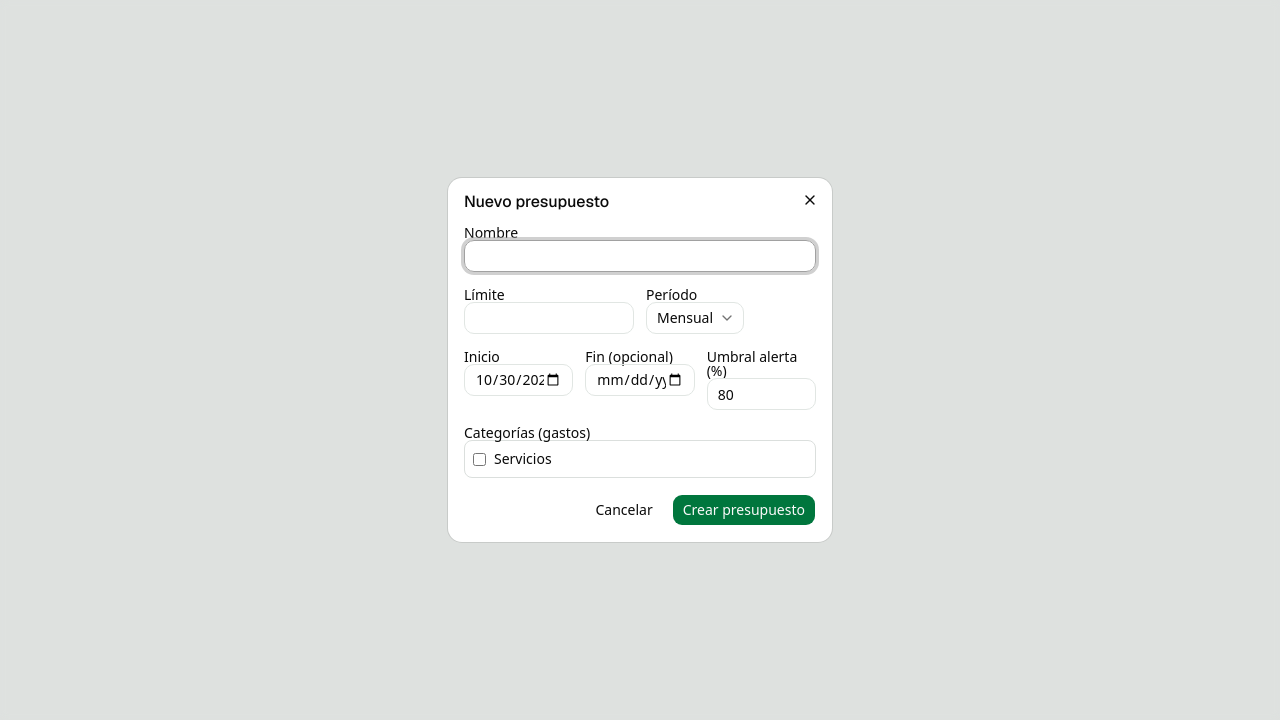
Test: BudgetFormModal › valida límite y categorías vacías
In the field labelled "Nombre": coordinates (640, 256) [464,240,816,272], type "Hogar"
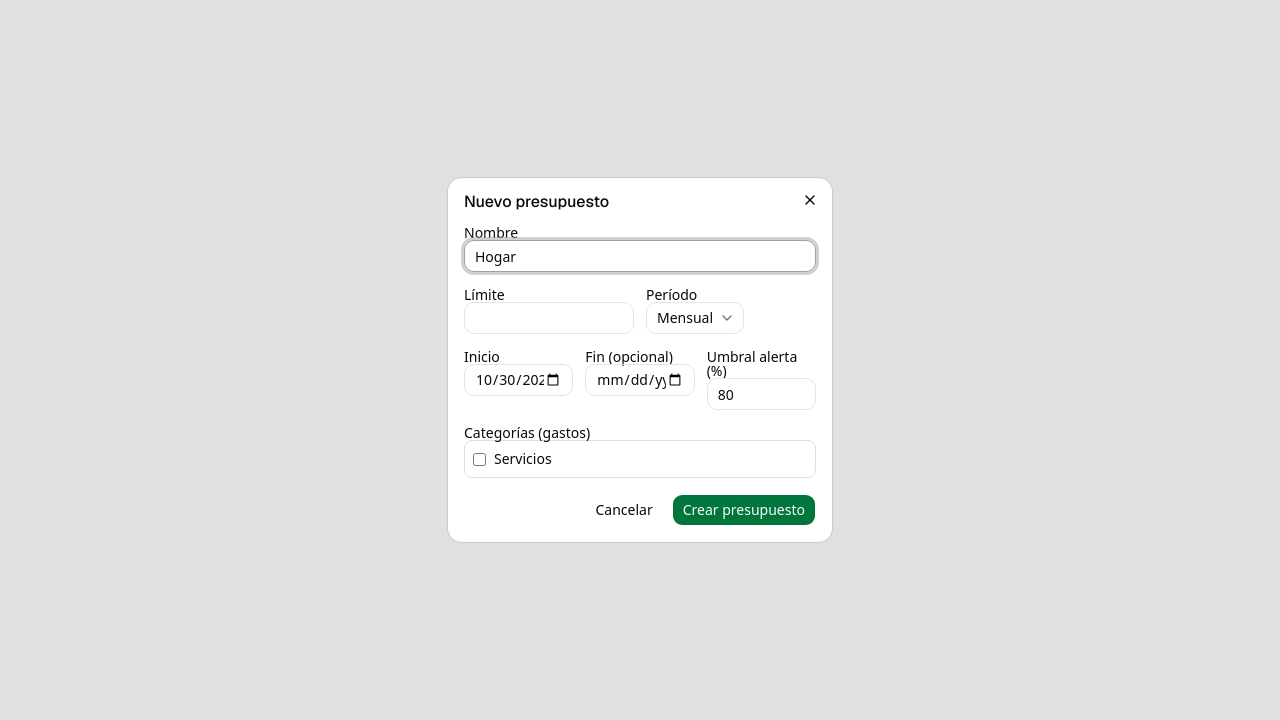
In the field labelled "Límite": coordinates (549, 318) [464,302,634,334], type "abc"
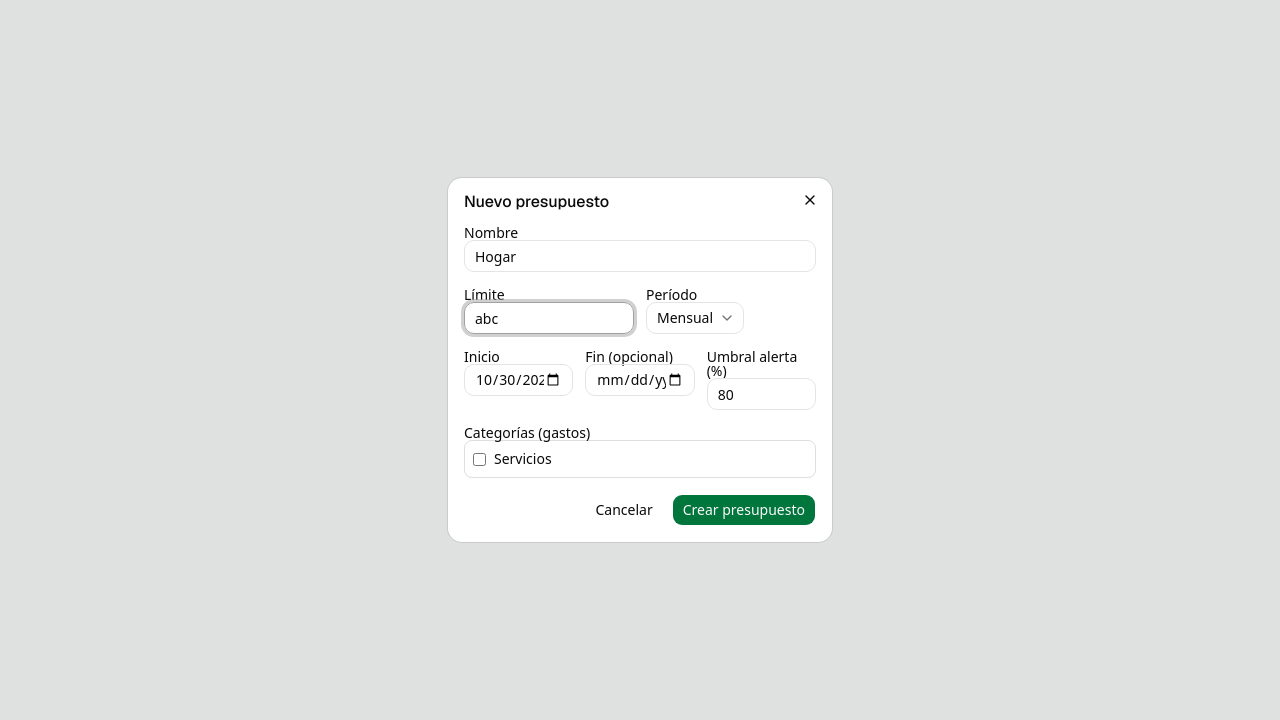
Click the button "Crear presupuesto": coordinates (744, 510) [672,494,816,526]
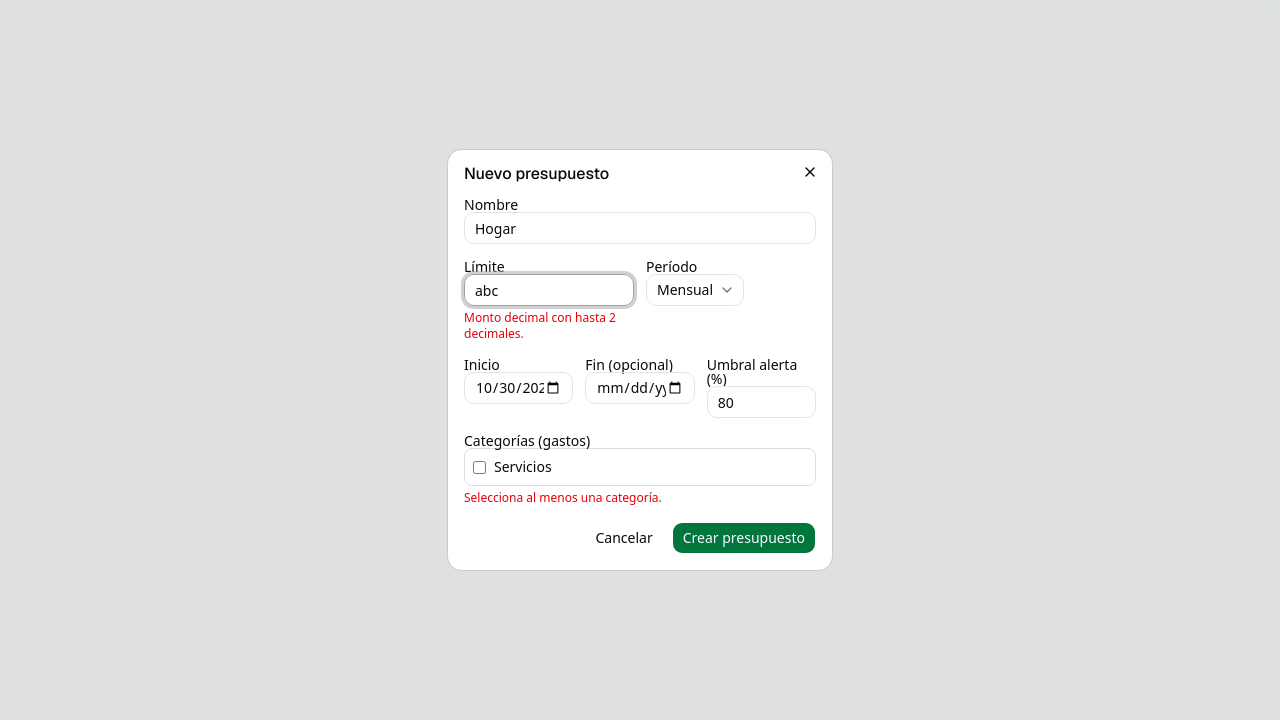
expect the text "Monto decimal con hasta 2 decimales." is shown: met, box [464,310,634,342]
expect the text "Selecciona al menos una categoría." is shown: met, box [464,489,662,506]
